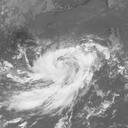cyclone: (21, 44, 110, 114)
